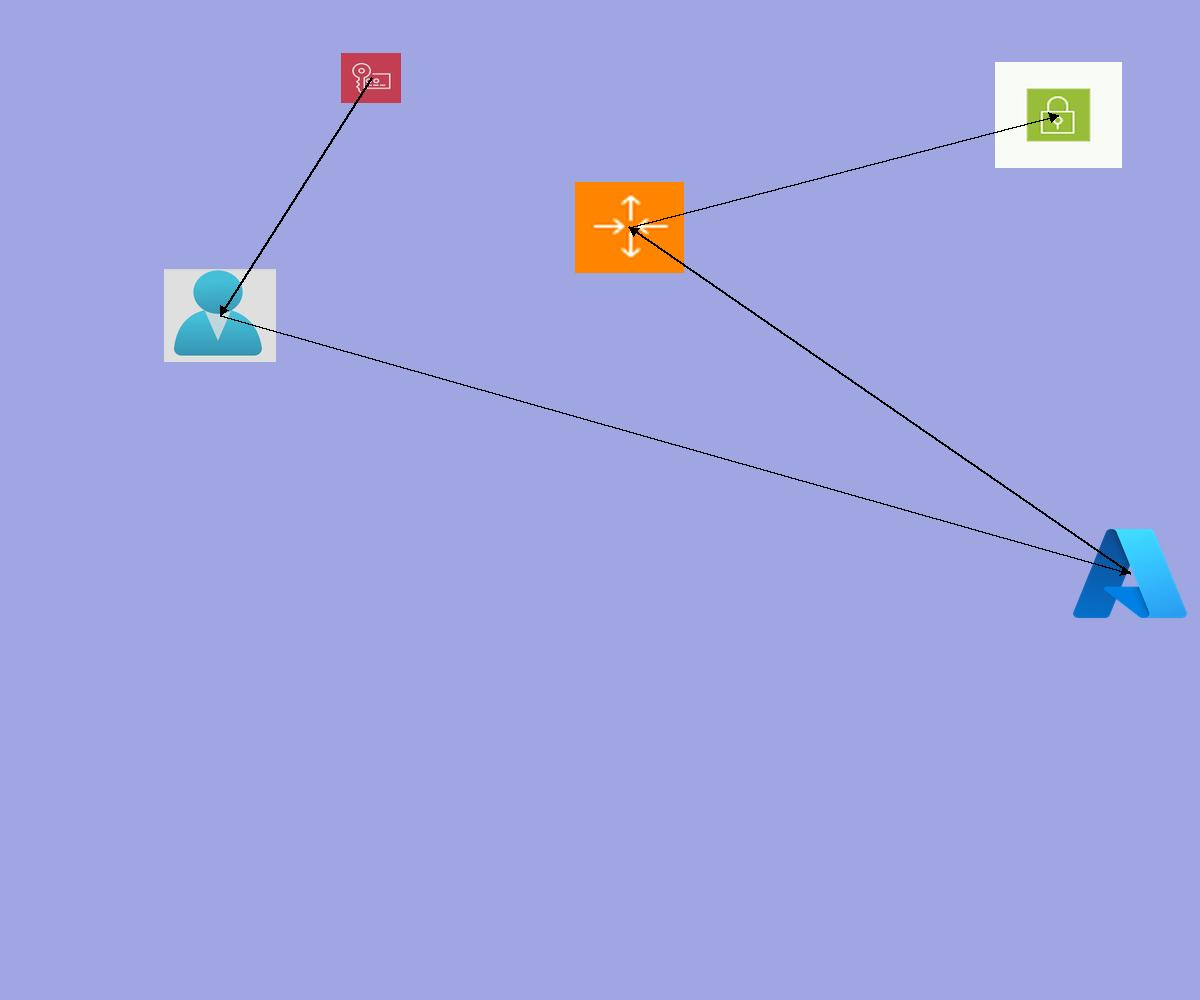AWS-Key-Management-Service: (341, 53, 401, 103)
AWS-Public-subnet: (995, 62, 1122, 168)
AWS-Scaling-group: (575, 182, 684, 273)
Azure_services: (1068, 522, 1192, 625)
Azure_users: (164, 269, 276, 362)
